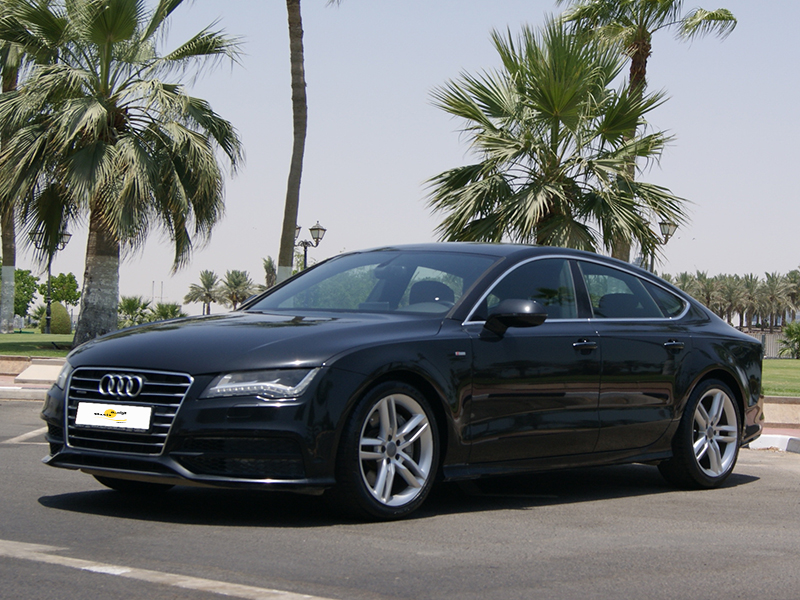other: (44, 238, 768, 507)
